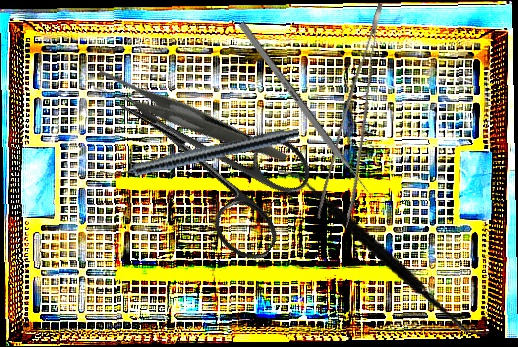Dressing Forceps: (88, 25, 289, 215)
Handpiece: (99, 121, 301, 186)
Iris Scissors: (82, 49, 327, 269)
Pusher: (237, 21, 379, 205)
Spatula Surgical: (258, 167, 509, 336)
Tissue Forceps: (305, 3, 420, 228)
